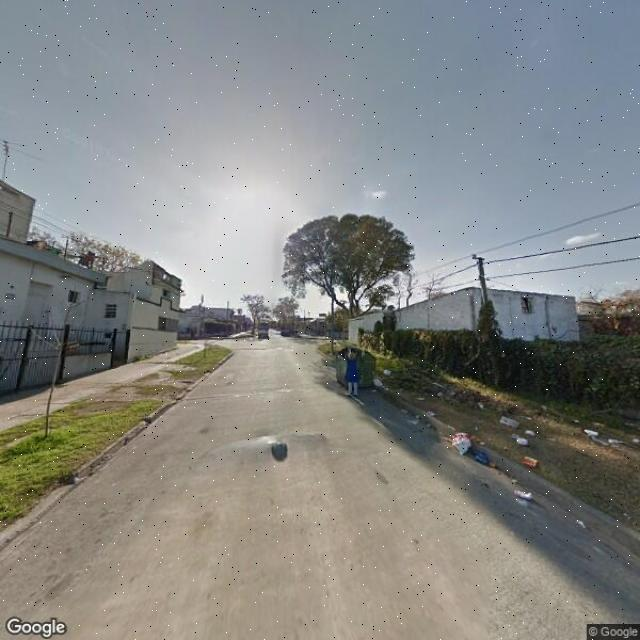garbage container: (333, 344, 390, 402)
